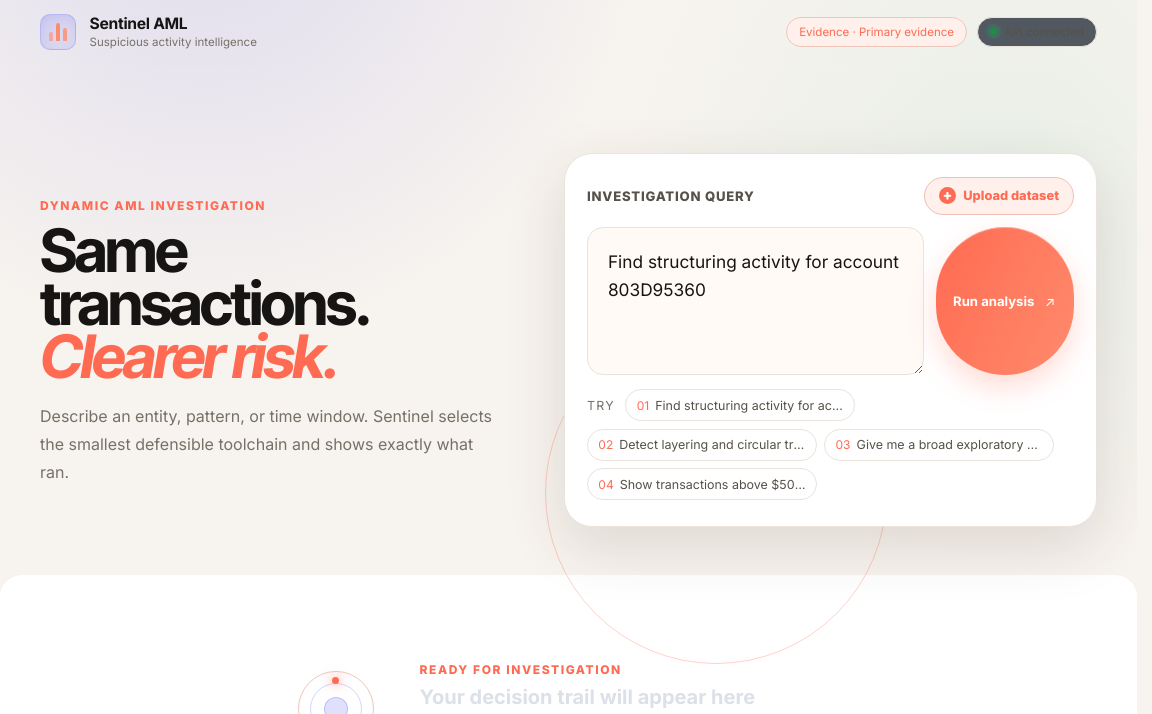
Command center analyst workflow › submits the natural-language query against the active dataset
Replace the text in the text box labelled "Investigation query" with "Find structuring in June" at (755, 301), box top-left (587, 227), bottom-right (924, 375)
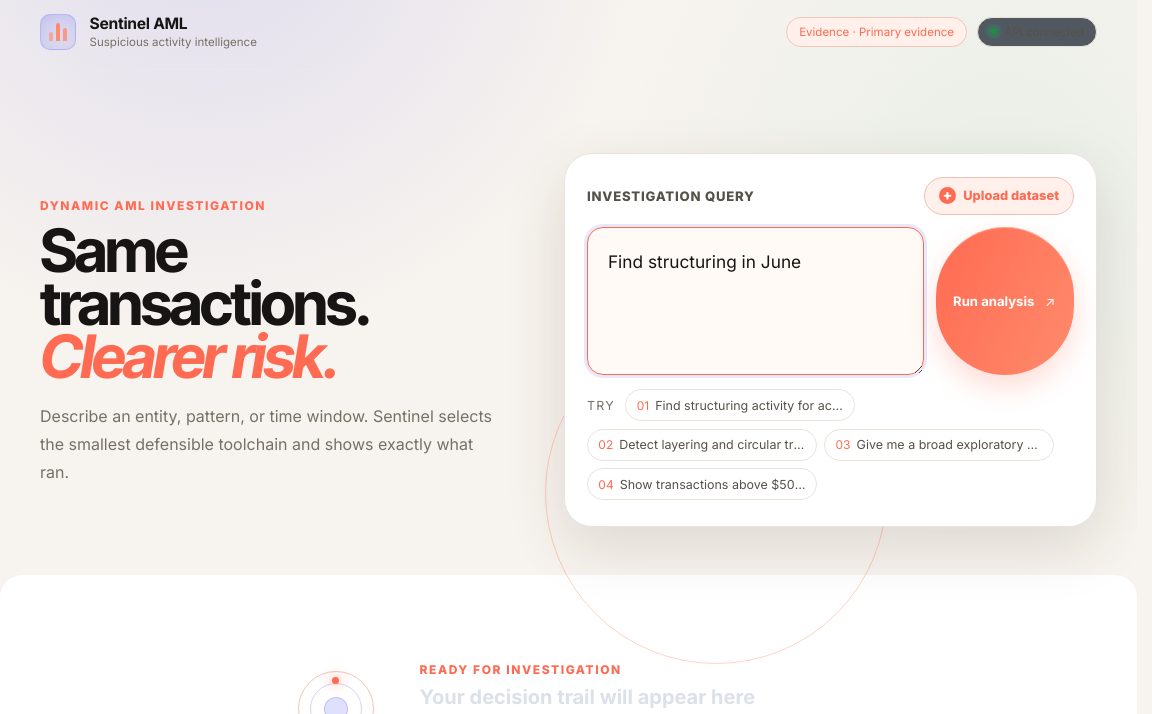
Click the button "Run analysis ↗" at (1005, 301), box top-left (936, 227), bottom-right (1074, 375)
(page scrolled)
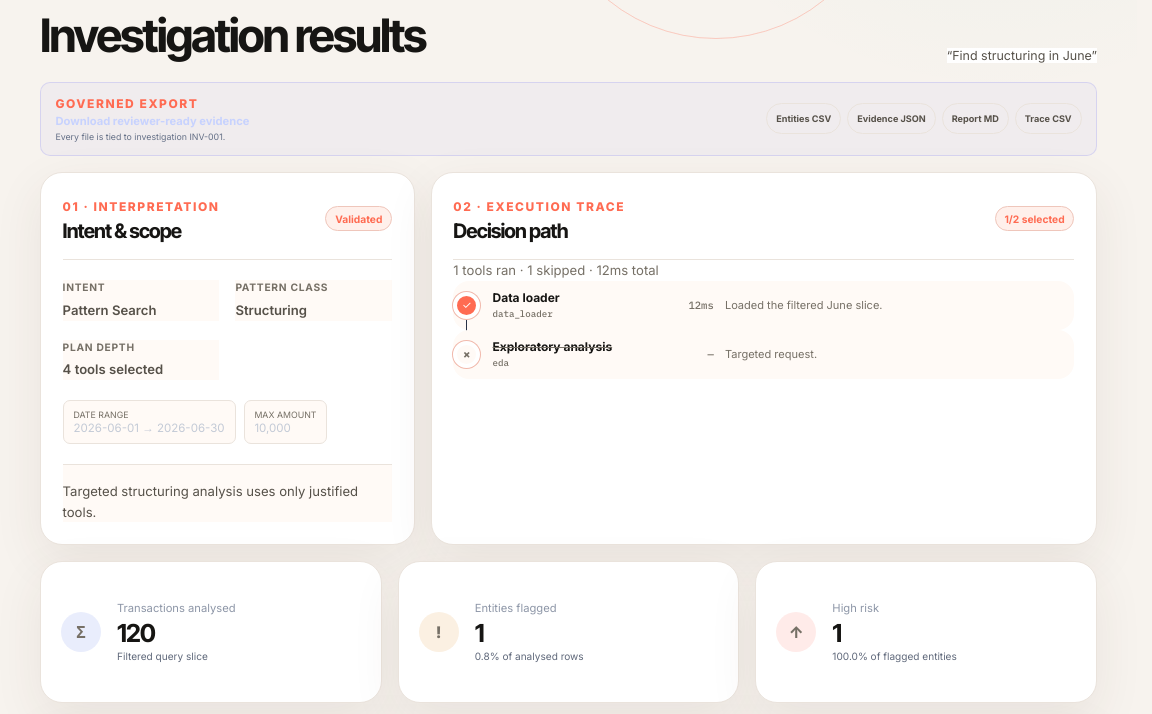
Expected: the heading "Intent & scope" is shown, top-left (63, 219), bottom-right (181, 243)
Expected: the text "Targeted structuring analysis uses only justified tools." is shown, top-left (63, 464), bottom-right (392, 522)
Expected: the text "Targeted request." is shown, top-left (725, 347), bottom-right (817, 361)
